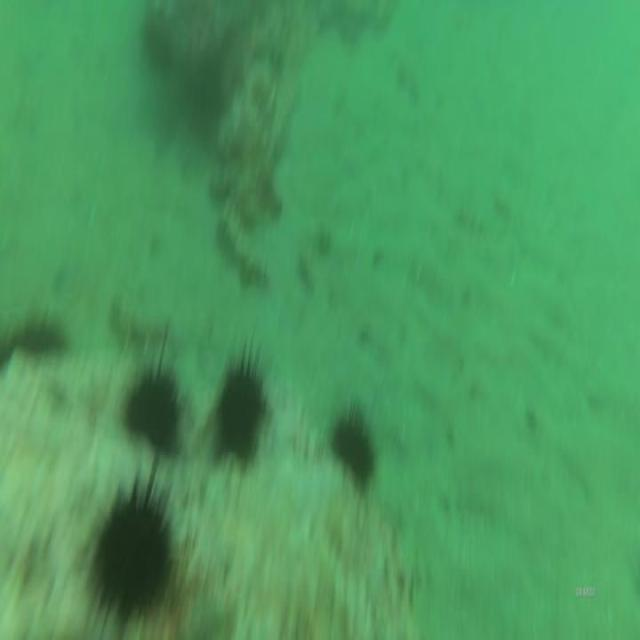echinus: (76, 452, 180, 640), (204, 332, 278, 474), (121, 314, 189, 460), (326, 392, 383, 499)
holothurian: (213, 197, 270, 294)
